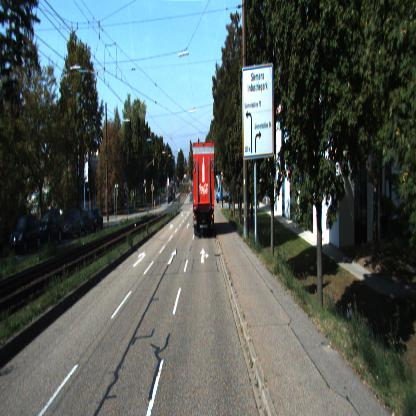car: (12, 215, 43, 254), (39, 210, 73, 243), (71, 209, 103, 235), (60, 211, 85, 239), (92, 210, 103, 231)
